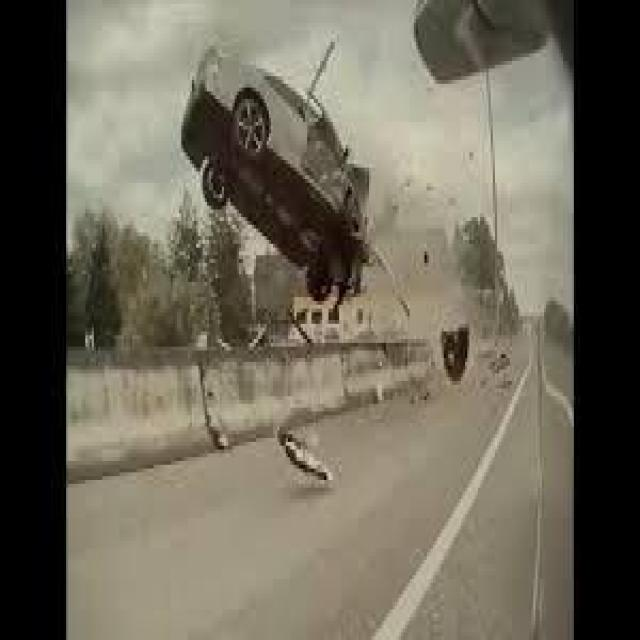accident: (175, 38, 373, 316)
